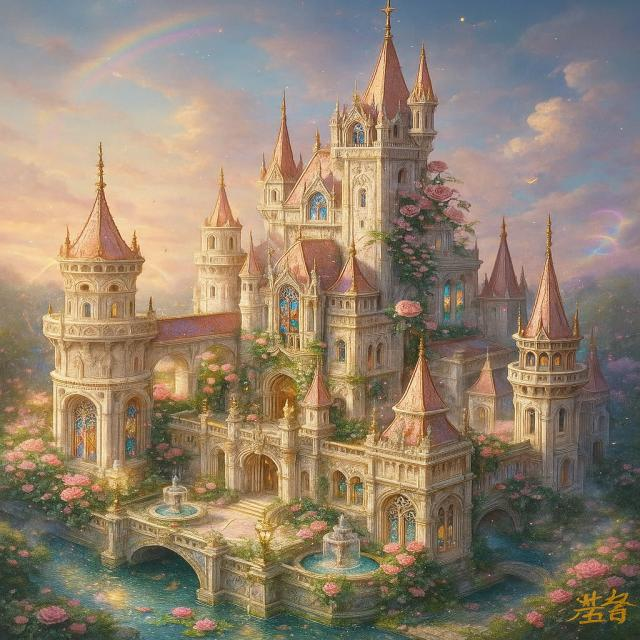castle: (34, 7, 605, 596)
